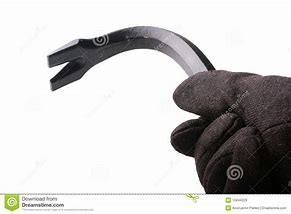crowbar: (44, 22, 291, 195)
